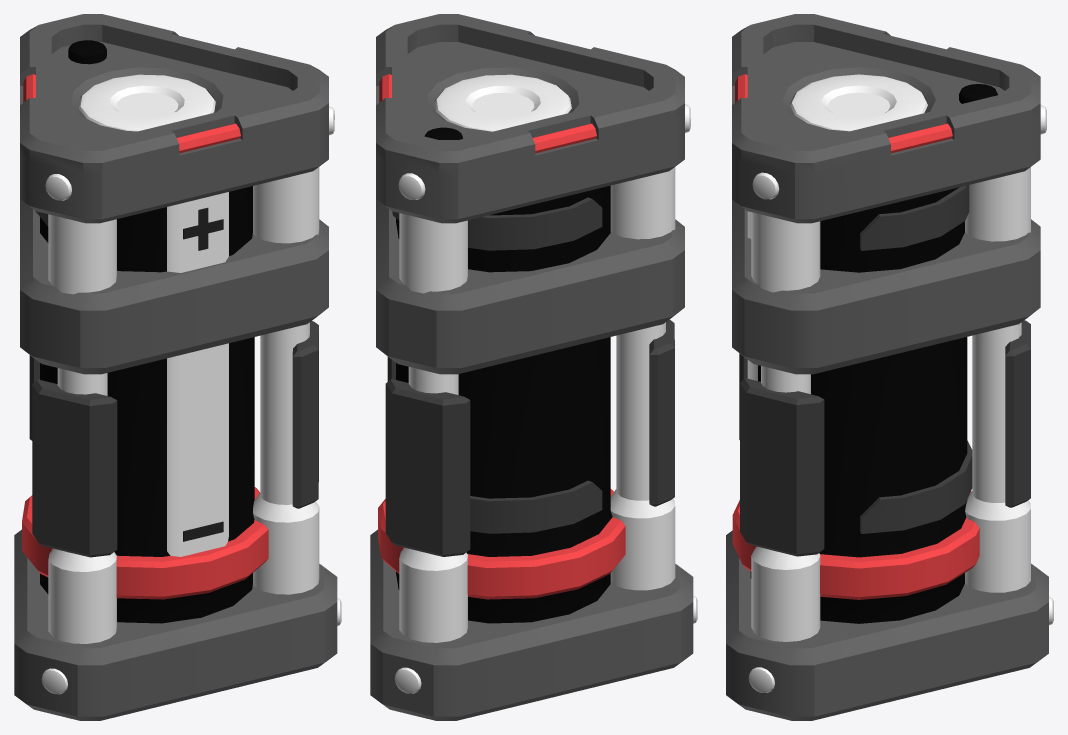
The model's file is Battery.fbx.
The picture shows the model from 3 angles, left to right: view 1: azimuth 30°, elevation 25°; view 2: azimuth 150°, elevation 25°; view 3: azimuth 270°, elevation 25°; orthographic projection.
Visible parts, largest first — view 1: Cube.005; view 2: Cube.005; view 3: Cube.005.
Boxes of the visible parts, x1=… form: Cube.005: x1=14, y1=14, x2=341, y2=720; Cube.005: x1=370, y1=14, x2=697, y2=720; Cube.005: x1=726, y1=14, x2=1053, y2=720.
Size of the model in its own units: 55.44 by 96.68 by 50.68.
